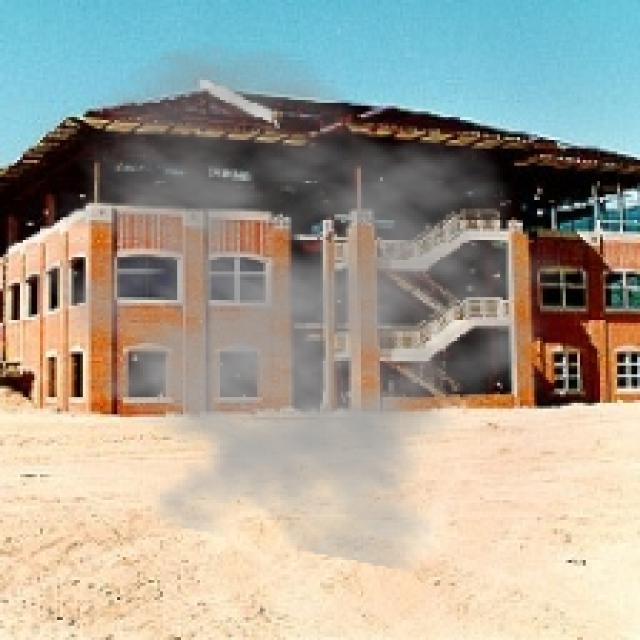smoke: (6, 40, 568, 574)
